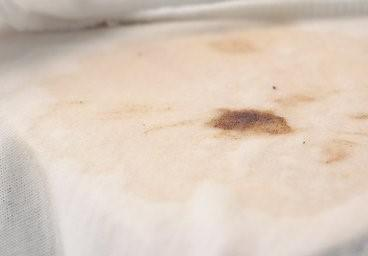gun: (52, 19, 362, 211)
